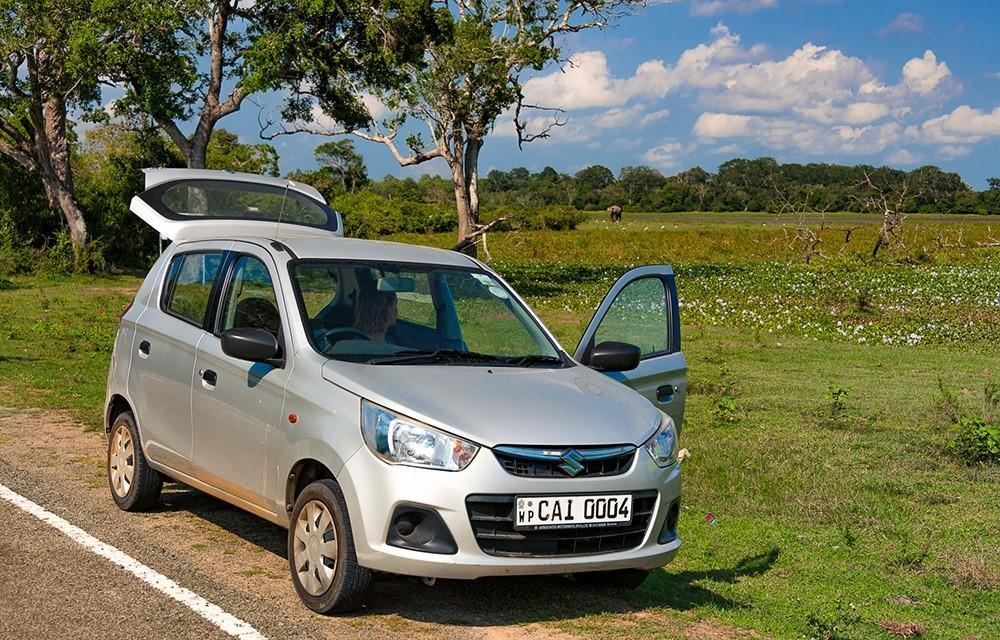license-plate: (515, 496, 632, 522)
